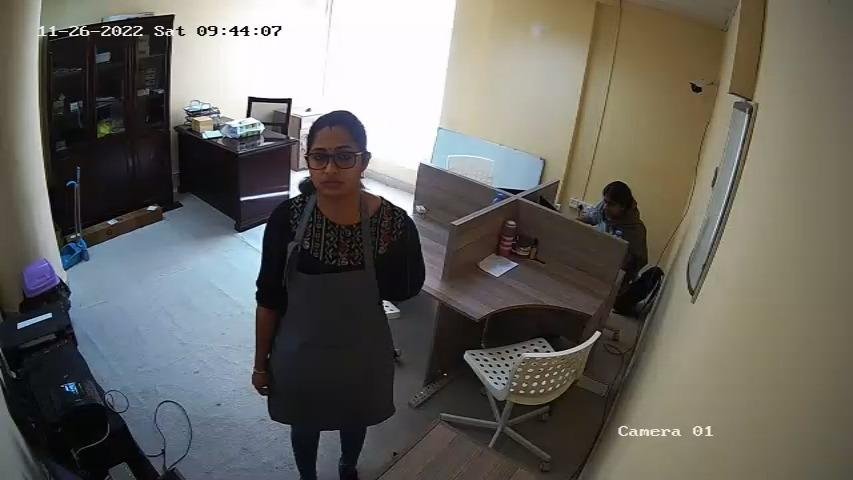apron: (275, 204, 385, 414)
